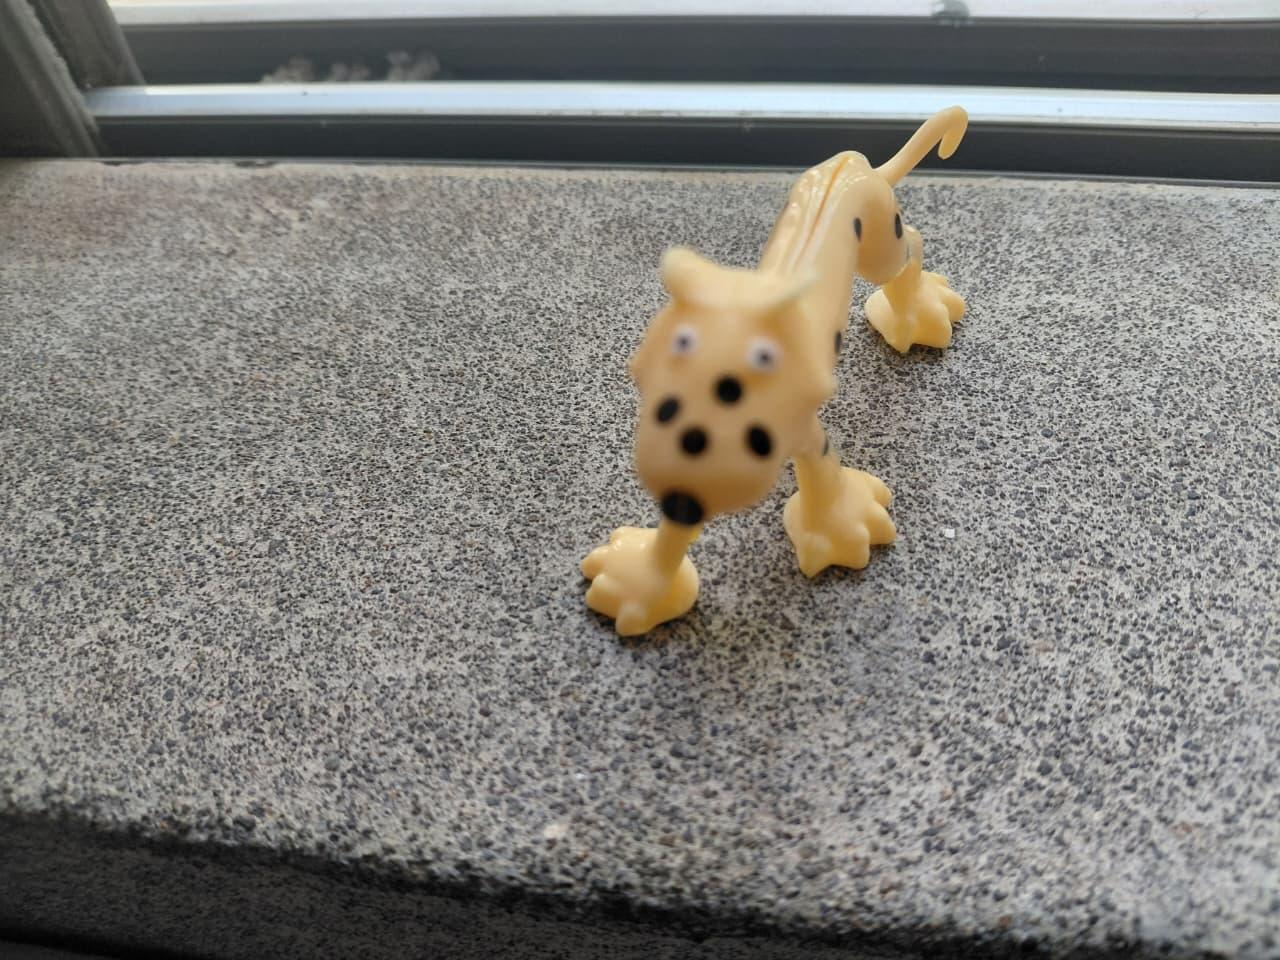cheetah: (530, 94, 1061, 639)
